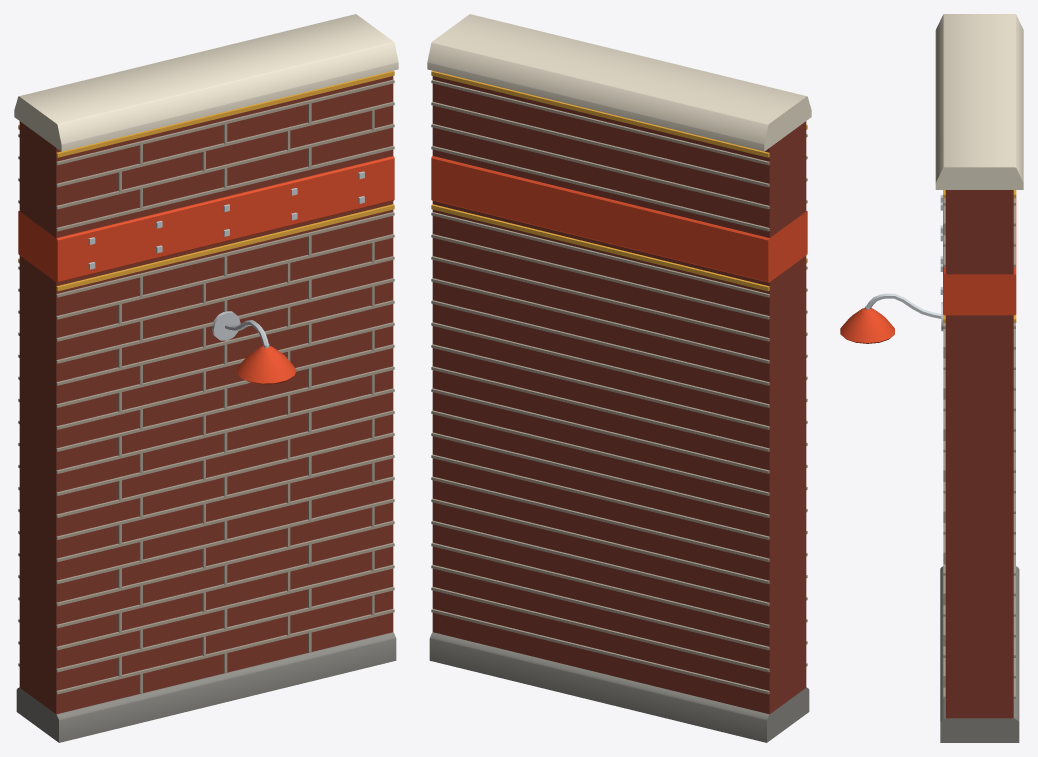
Rendered from Lobby_StoreWall.fbx.
The picture shows the model from 3 angles, left to right: view 1: azimuth 30°, elevation 25°; view 2: azimuth 150°, elevation 25°; view 3: azimuth 270°, elevation 25°; orthographic projection. The views are drawn at different scales.
Visible parts, largest first — view 1: Brick, Mortar, Cream, Header, Plinth, Pinstripe, Shade, Chrome; view 2: Brick, Mortar, Cream, Header, Plinth, Pinstripe; view 3: Brick, Cream, Plinth, Header, Mortar, Shade, Chrome.
Part boxes in pixels (<box>): Brick: <box>19,76,393,714</box>; Mortar: <box>18,79,394,694</box>; Cream: <box>14,14,398,151</box>; Header: <box>18,156,394,282</box>; Plinth: <box>16,632,396,742</box>; Pinstripe: <box>18,70,394,291</box>; Shade: <box>236,345,296,384</box>; Chrome: <box>88,171,364,347</box>; Brick: <box>432,76,806,714</box>; Mortar: <box>431,79,807,694</box>; Cream: <box>427,14,811,151</box>; Header: <box>431,156,807,282</box>; Plinth: <box>429,632,809,742</box>; Pinstripe: <box>431,70,807,291</box>; Brick: <box>945,190,1013,718</box>; Cream: <box>935,14,1023,189</box>; Plinth: <box>940,566,1019,742</box>; Header: <box>943,198,1016,315</box>; Mortar: <box>943,198,1015,698</box>; Shade: <box>840,307,894,343</box>; Chrome: <box>865,195,943,331</box>.
Size of the model in its own units: 800 by 1400 by 404.
